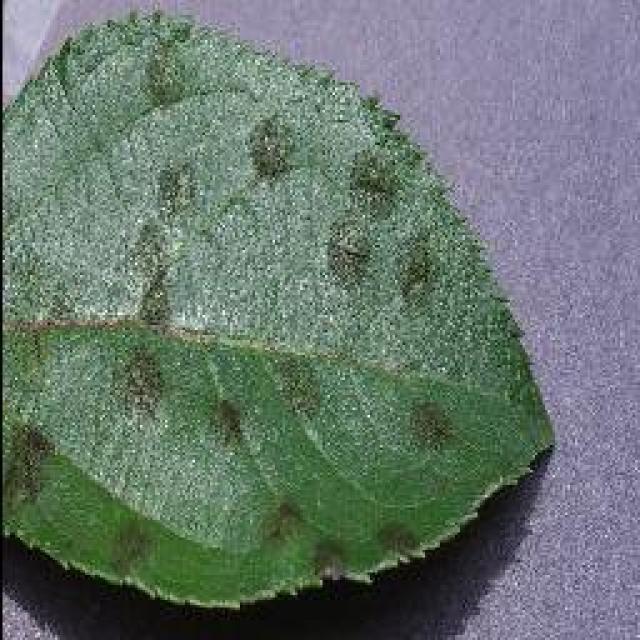apple scab disease: (0, 5, 558, 610)
